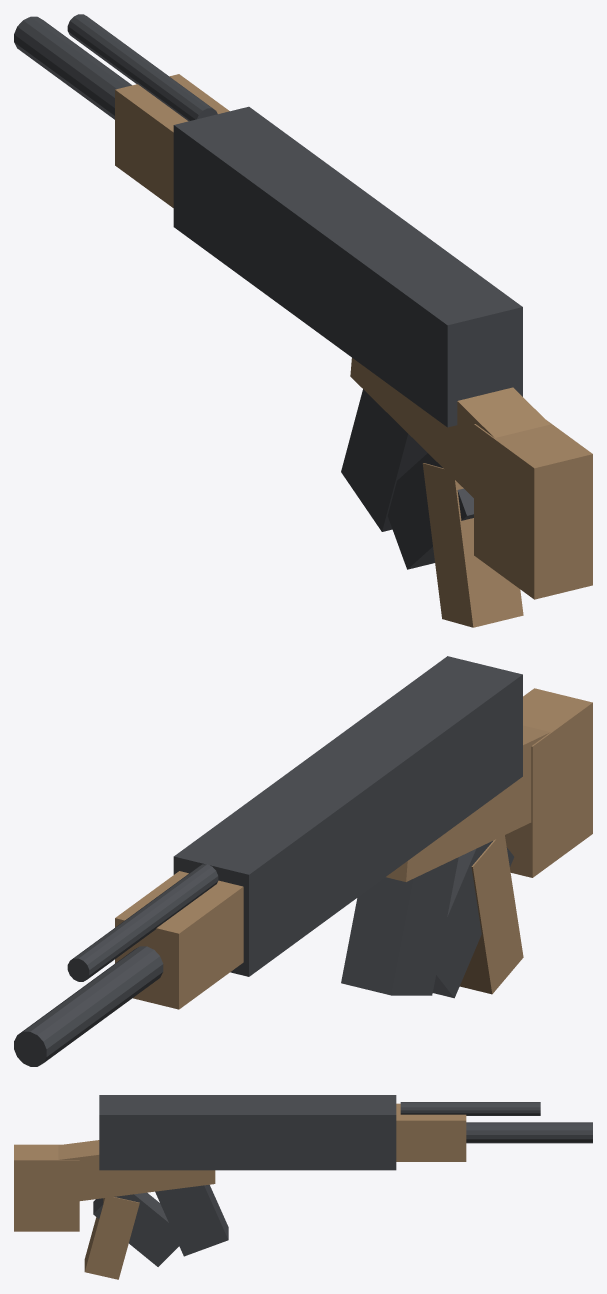
3 views of the same model, one above another, from view 1: azimuth 30°, elevation 25°; view 2: azimuth 150°, elevation 25°; view 3: azimuth 270°, elevation 25° (orthographic). The views are drawn at different scales.
Parts seen in each view (by area): view 1: kf7; view 2: kf7; view 3: kf7.
Part boxes in pixels (x1=…): kf7: x1=14, y1=14, x2=592, y2=627; kf7: x1=14, y1=656, x2=592, y2=1066; kf7: x1=14, y1=1095, x2=592, y2=1279.
Bounding box in the file's own units: 0.054 × 0.2154 × 0.6625.
